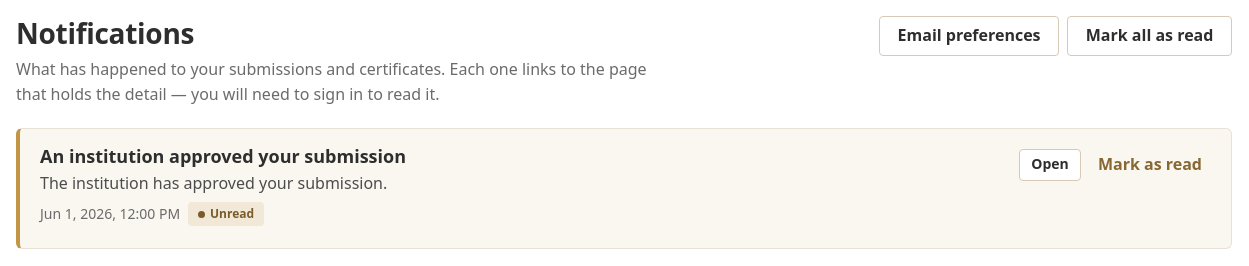
Notification centre › marks one as read without offering to mark it unread again
Click the button "Mark as read": click(1150, 165) top-left (1089, 145), bottom-right (1211, 185)
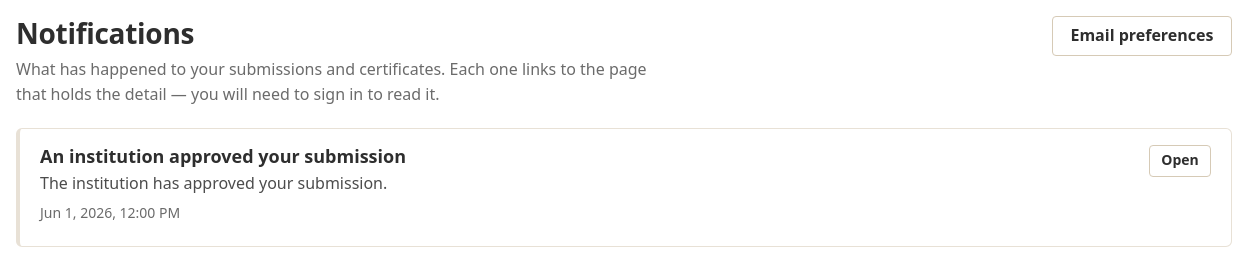
Result: the button "Mark as read" is gone
